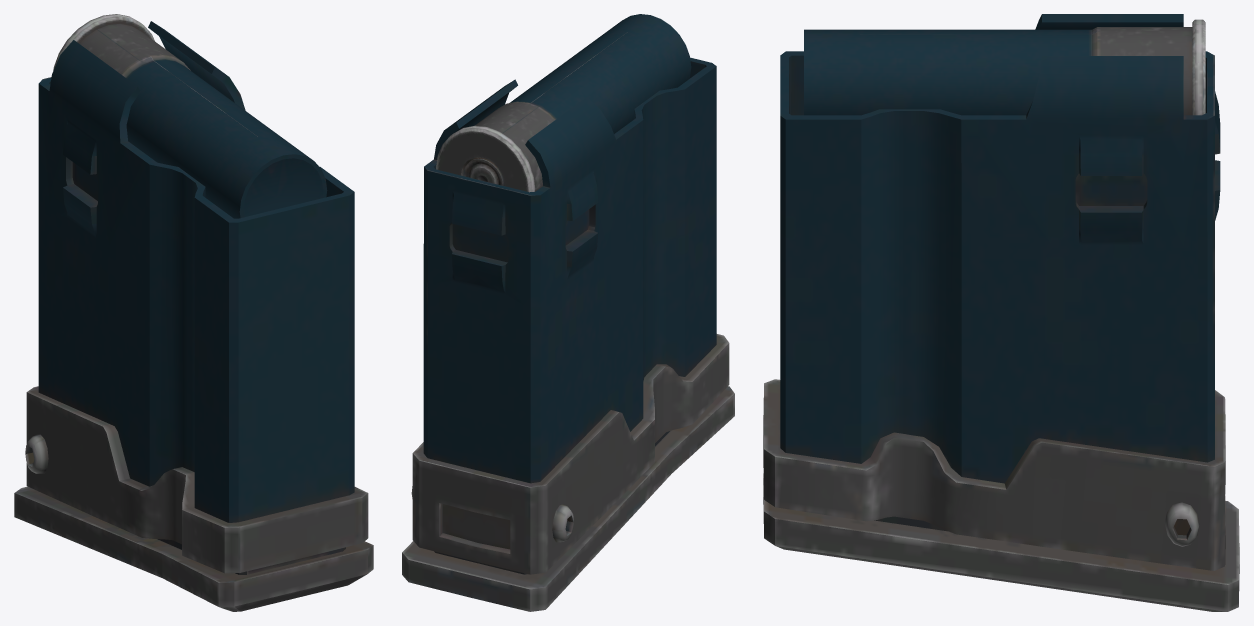
File: Mag_12G_04rnds_A.glb
3 views of the same model, side by side, from view 1: azimuth 30°, elevation 25°; view 2: azimuth 150°, elevation 25°; view 3: azimuth 270°, elevation 25° (orthographic). The views are drawn at different scales.
Visible parts, largest first — view 1: Mag_50_10rnds_A, Cartridge1.003; view 2: Mag_50_10rnds_A, Cartridge1.003; view 3: Mag_50_10rnds_A, Cartridge1.003.
Boxes of the visible parts, box(x1,y1,x2,y2) form: Mag_50_10rnds_A: box(14, 21, 373, 611); Cartridge1.003: box(53, 14, 327, 218); Mag_50_10rnds_A: box(402, 57, 734, 611); Cartridge1.003: box(436, 14, 691, 192); Mag_50_10rnds_A: box(763, 14, 1239, 611); Cartridge1.003: box(804, 19, 1205, 115).
Bounding box in the file's own units: 0.0461 × 0.1334 × 0.1036.
Materials: 2 (2 with a texture image).
